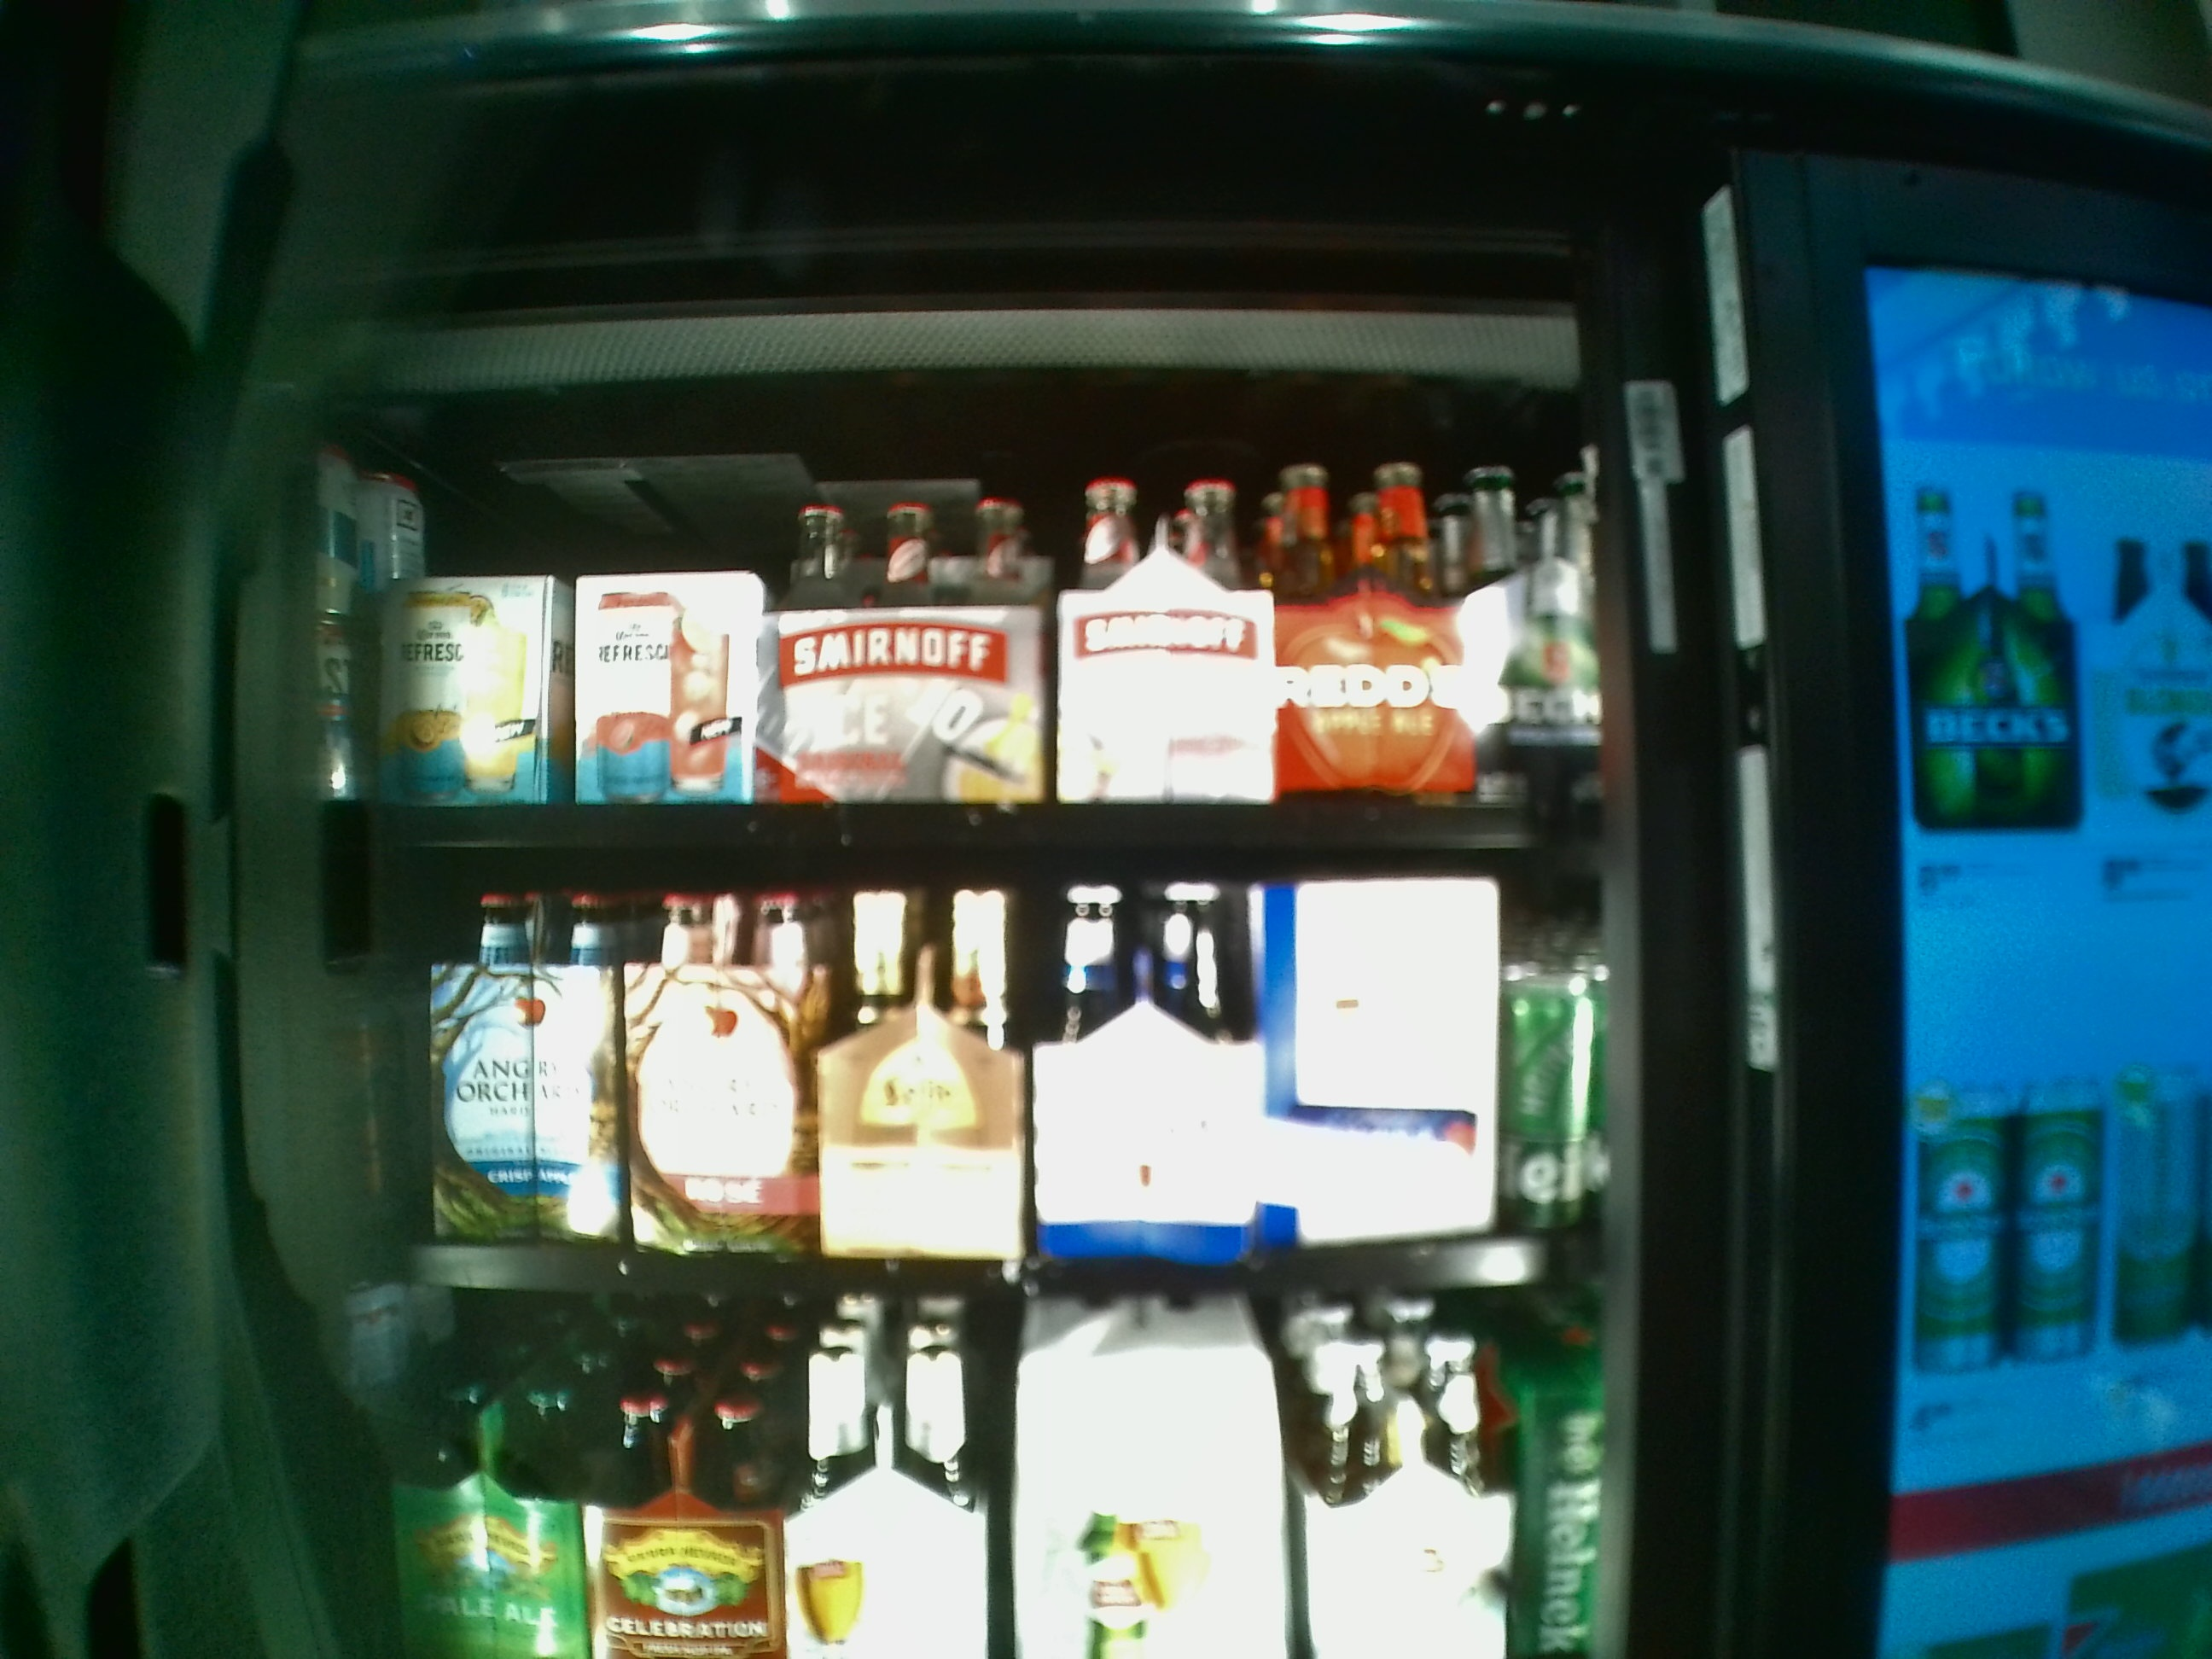shelf: (326, 387, 1590, 849), (326, 864, 1599, 1321)
